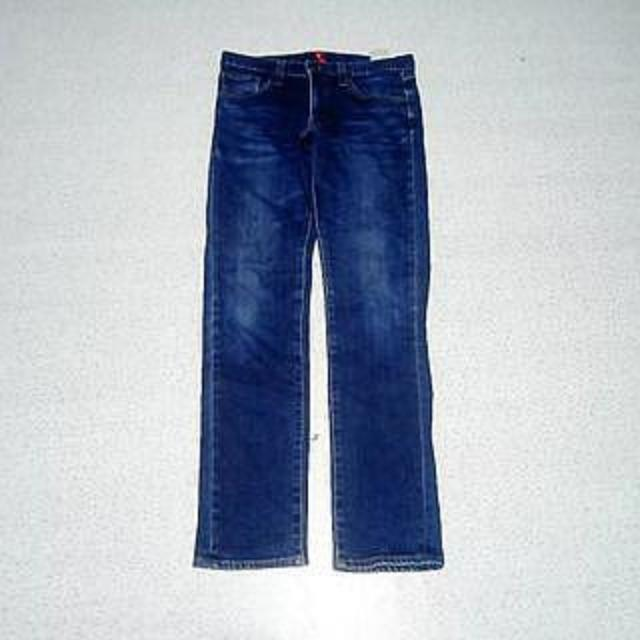TROUSER: (176, 46, 459, 578)
